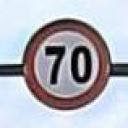speed_limit_70: (24, 20, 110, 112)
